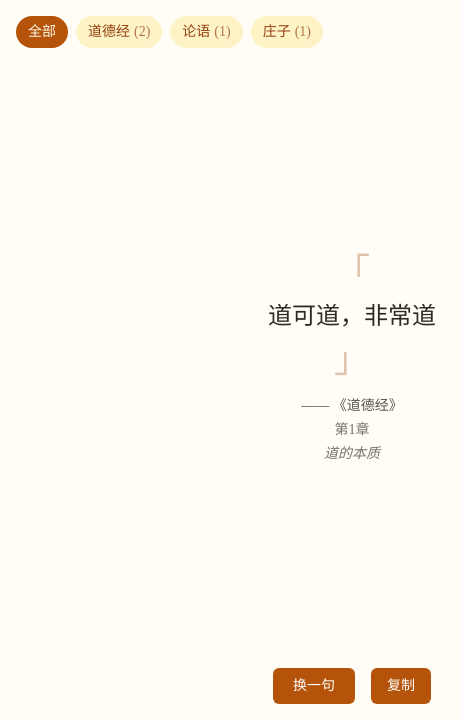
Test: App Integration Tests › copies formatted quote text to clipboard when copy button is clicked
Note: Click the copy button
Click the button with aria-label "复制金句到剪贴板" at (401, 686), box [371,668,431,704]
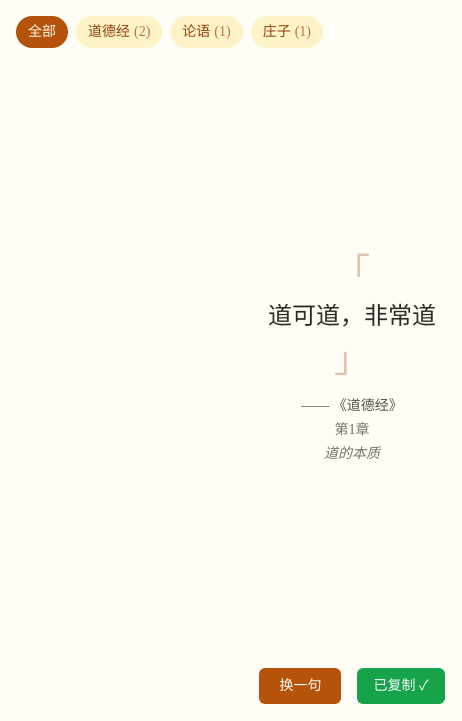
Expected: the button "已复制 ✓" is shown, [358,668,445,704]
